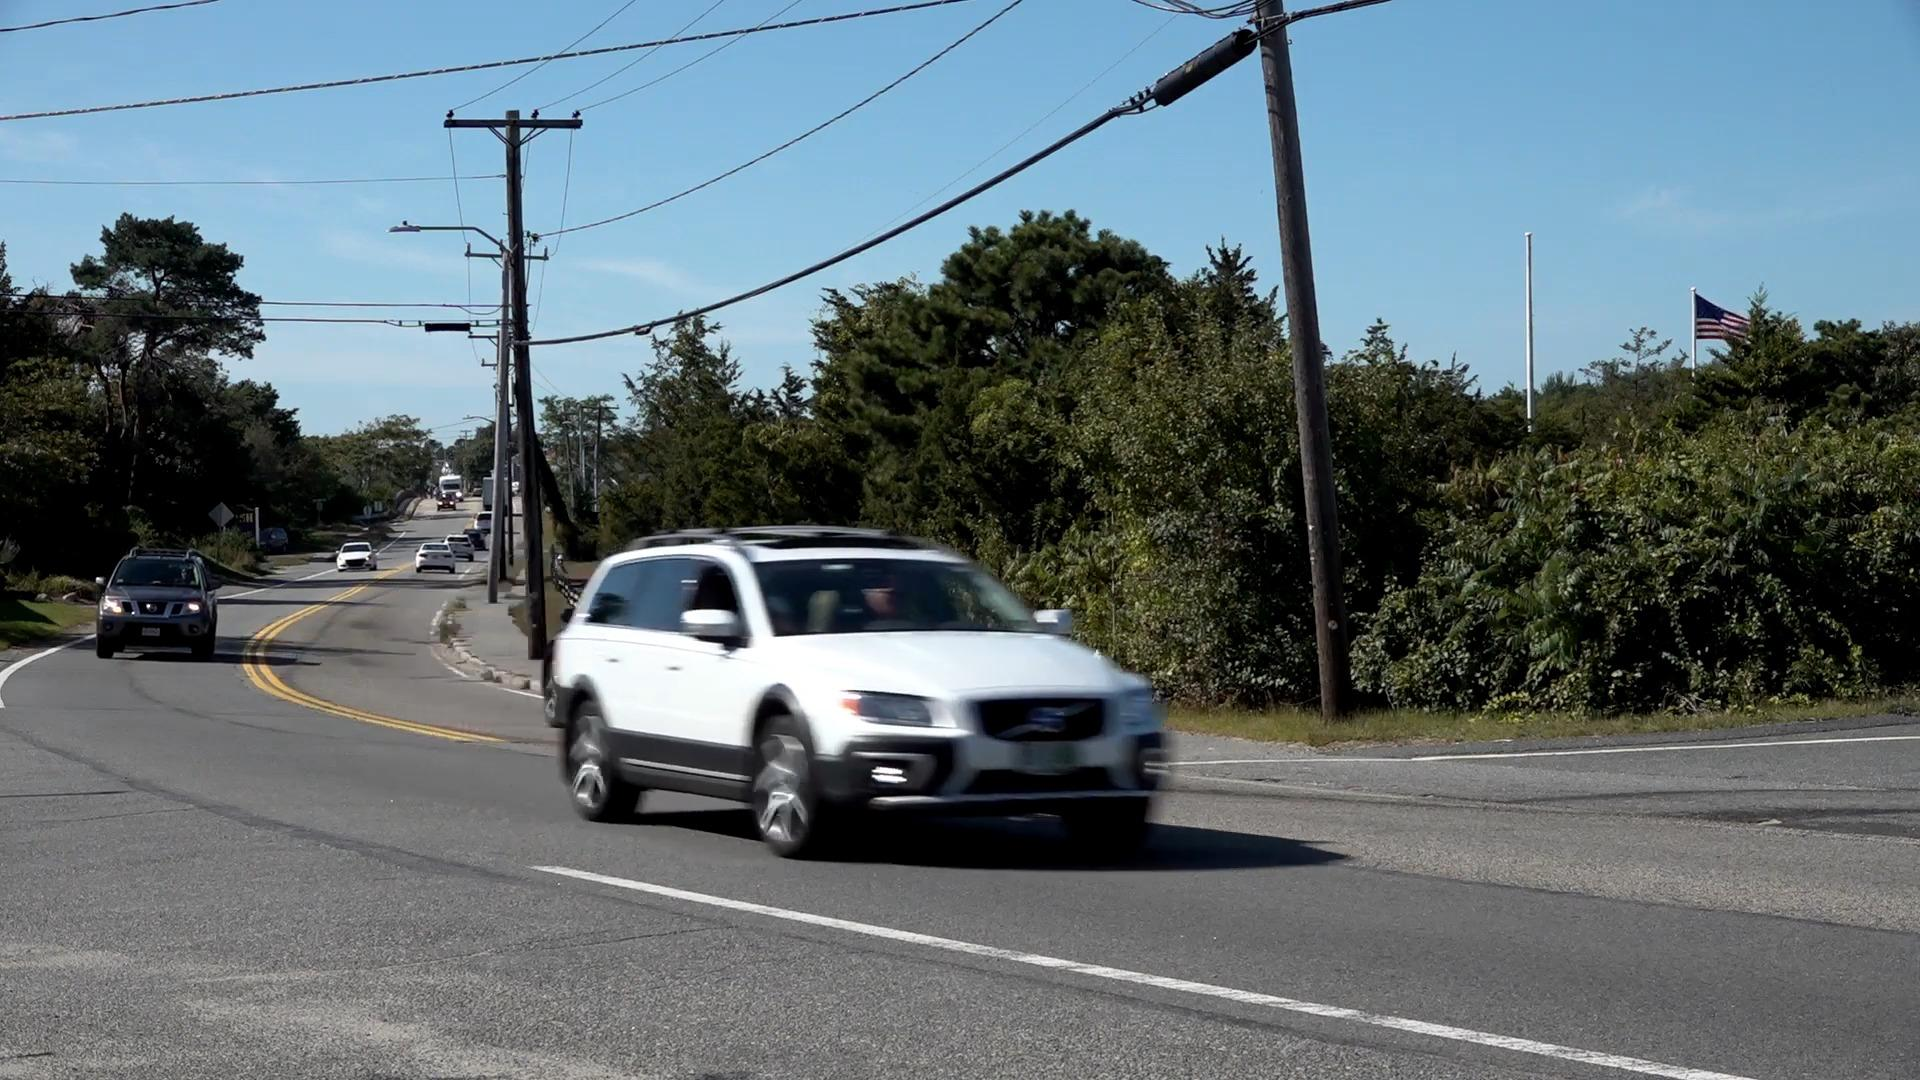sedans: (335, 543, 381, 568), (417, 542, 456, 571)
suv: (546, 529, 1170, 869), (90, 560, 224, 662)
